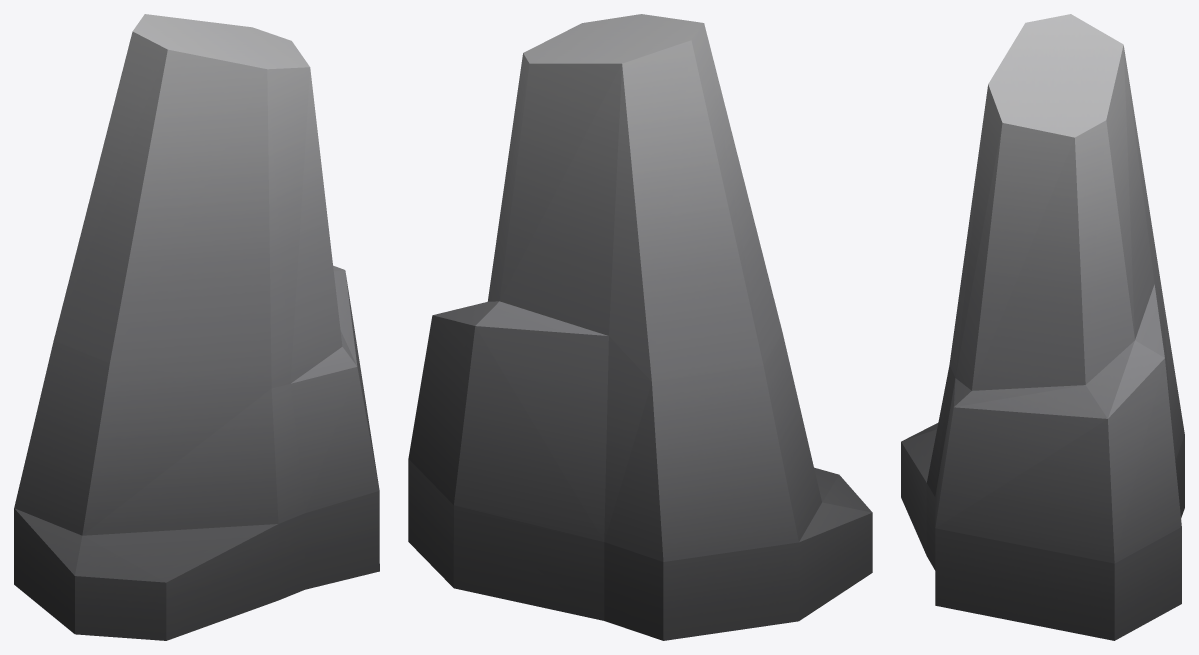
The model's file is RockPointy-02.FBX.
3 renders of one model, left to right at view 1: azimuth 30°, elevation 25°; view 2: azimuth 150°, elevation 25°; view 3: azimuth 270°, elevation 25°, orthographic. The views are drawn at different scales.
Visible parts, largest first — view 1: RockPointy-02; view 2: RockPointy-02; view 3: RockPointy-02.
Boxes of the visible parts, x1,y1,x2,y2 form: RockPointy-02: (14, 14, 379, 640); RockPointy-02: (408, 14, 872, 640); RockPointy-02: (901, 14, 1184, 640).
Bounding box in the file's own units: 431 × 594 × 300.
1 material, 1 textured.
